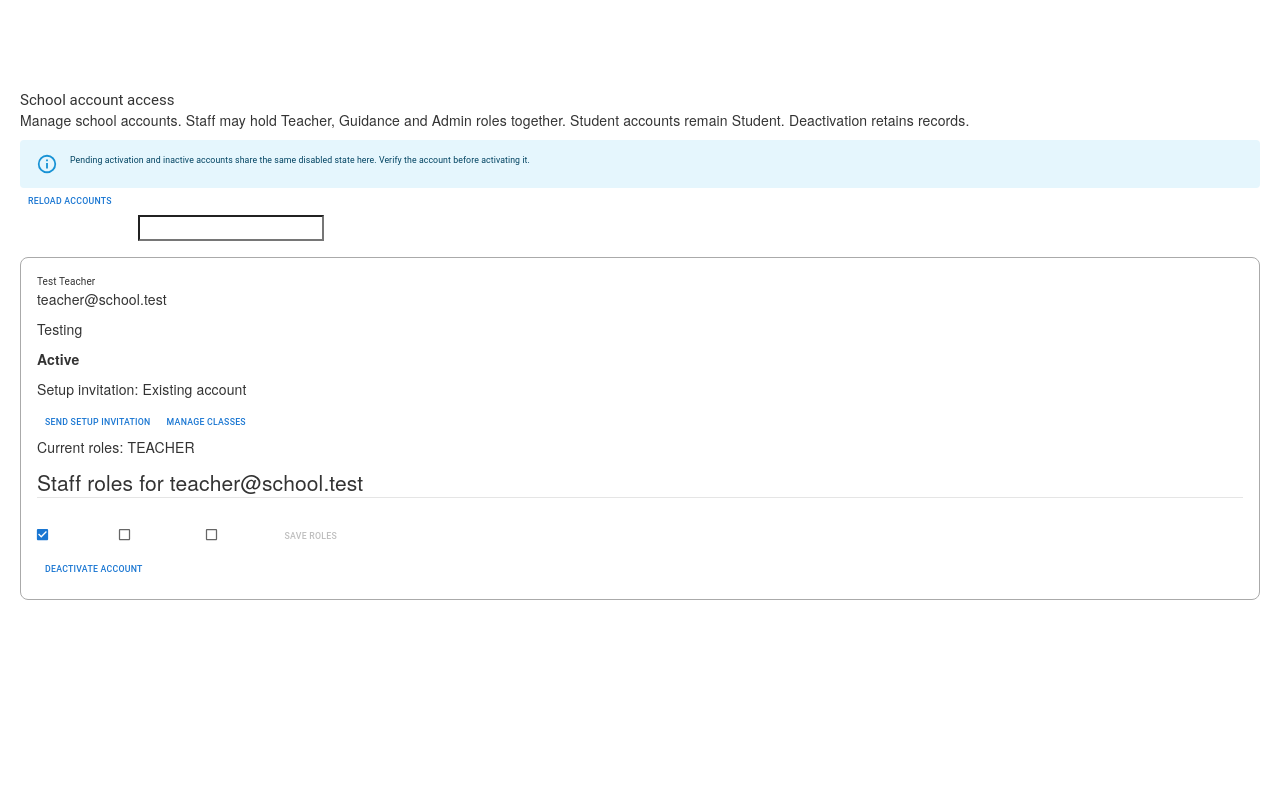
failed mutation 401 requires reload before retry
Click the button "Deactivate account".
click(94, 569)  # box 37,556 -> 151,583
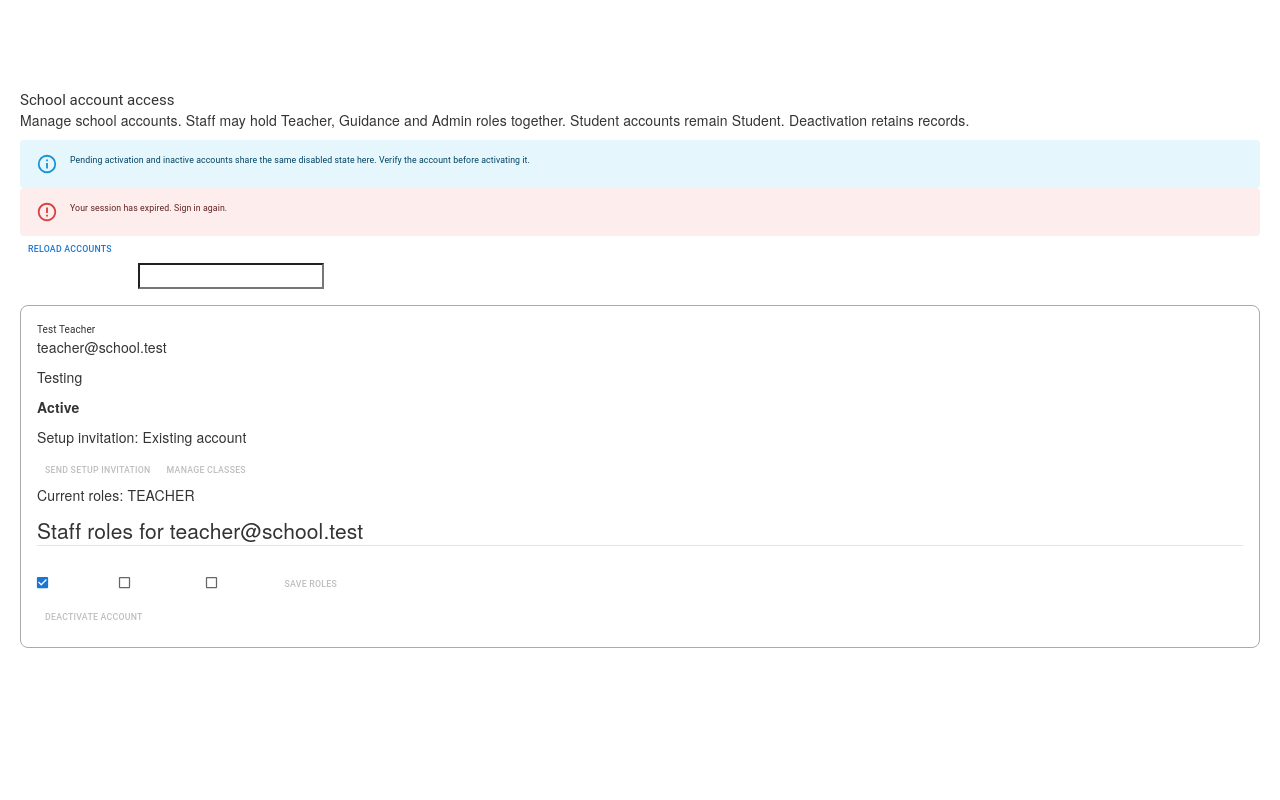
Now the button "Deactivate account" is disabled, box 37,604 -> 151,631
Click the button "Reload accounts".
click(70, 250)  # box 20,236 -> 120,263
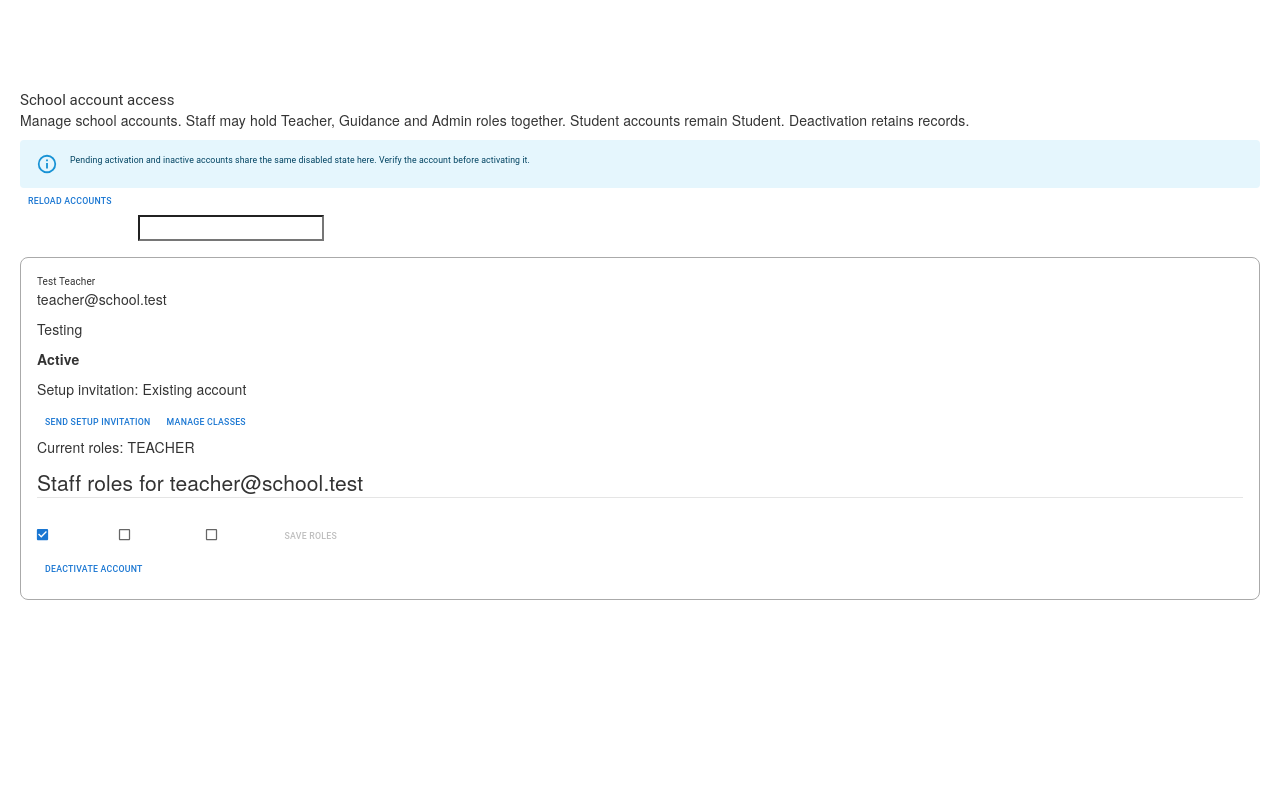
Now the button "Deactivate account" is enabled, box 37,556 -> 151,583
